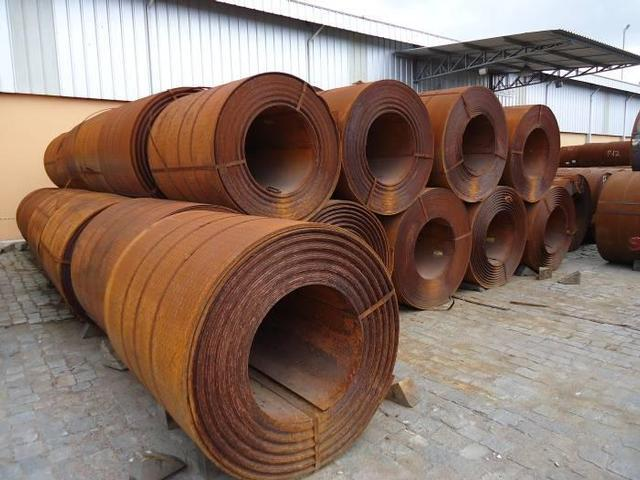steel-coil: (30, 66, 603, 408), (30, 66, 601, 406), (142, 221, 427, 414), (146, 214, 404, 411), (154, 73, 341, 216)
